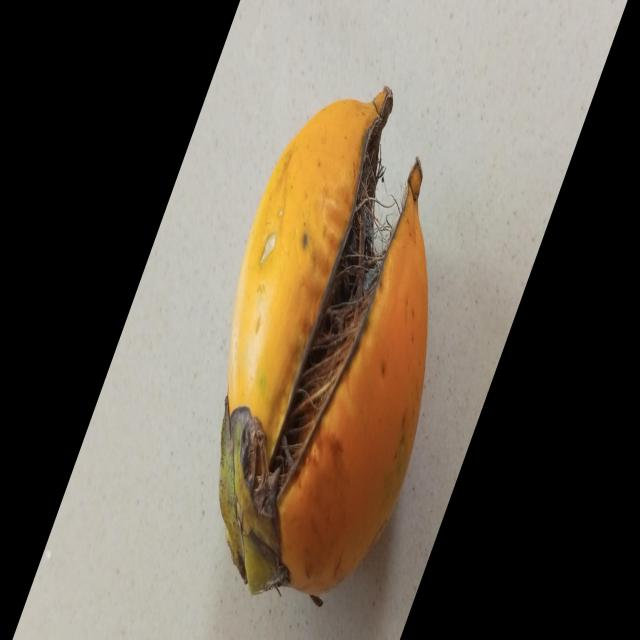damaged: (222, 91, 428, 599)
